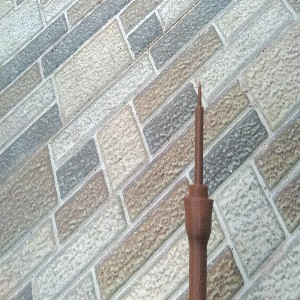solder: (182, 80, 214, 300)
